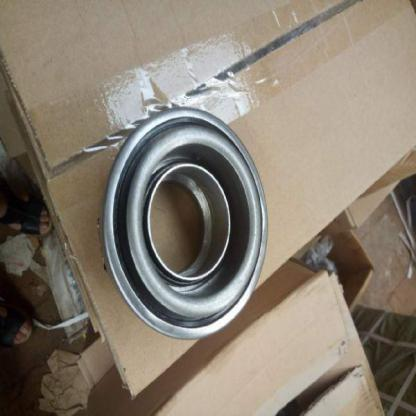FOD: (99, 98, 273, 344)
